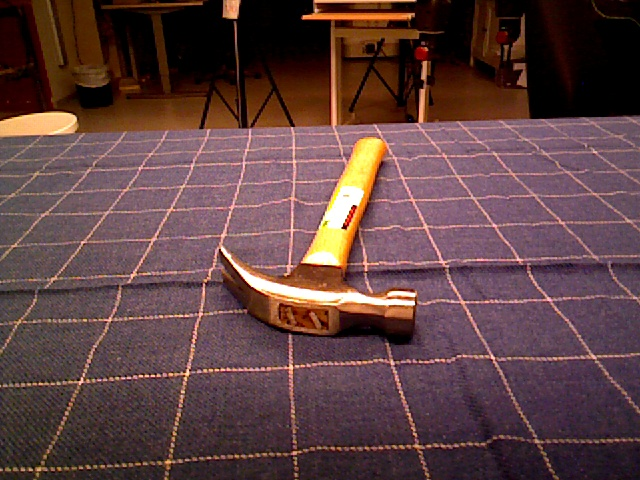hammer1: (218, 134, 420, 343)
